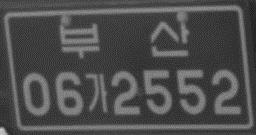0: (21, 71, 51, 118)
2: (211, 67, 243, 117), (109, 69, 140, 117)
5: (173, 66, 207, 116), (141, 67, 172, 116)
6: (54, 70, 84, 118)
가: (84, 72, 110, 114)
부산_D: (57, 18, 190, 60)
